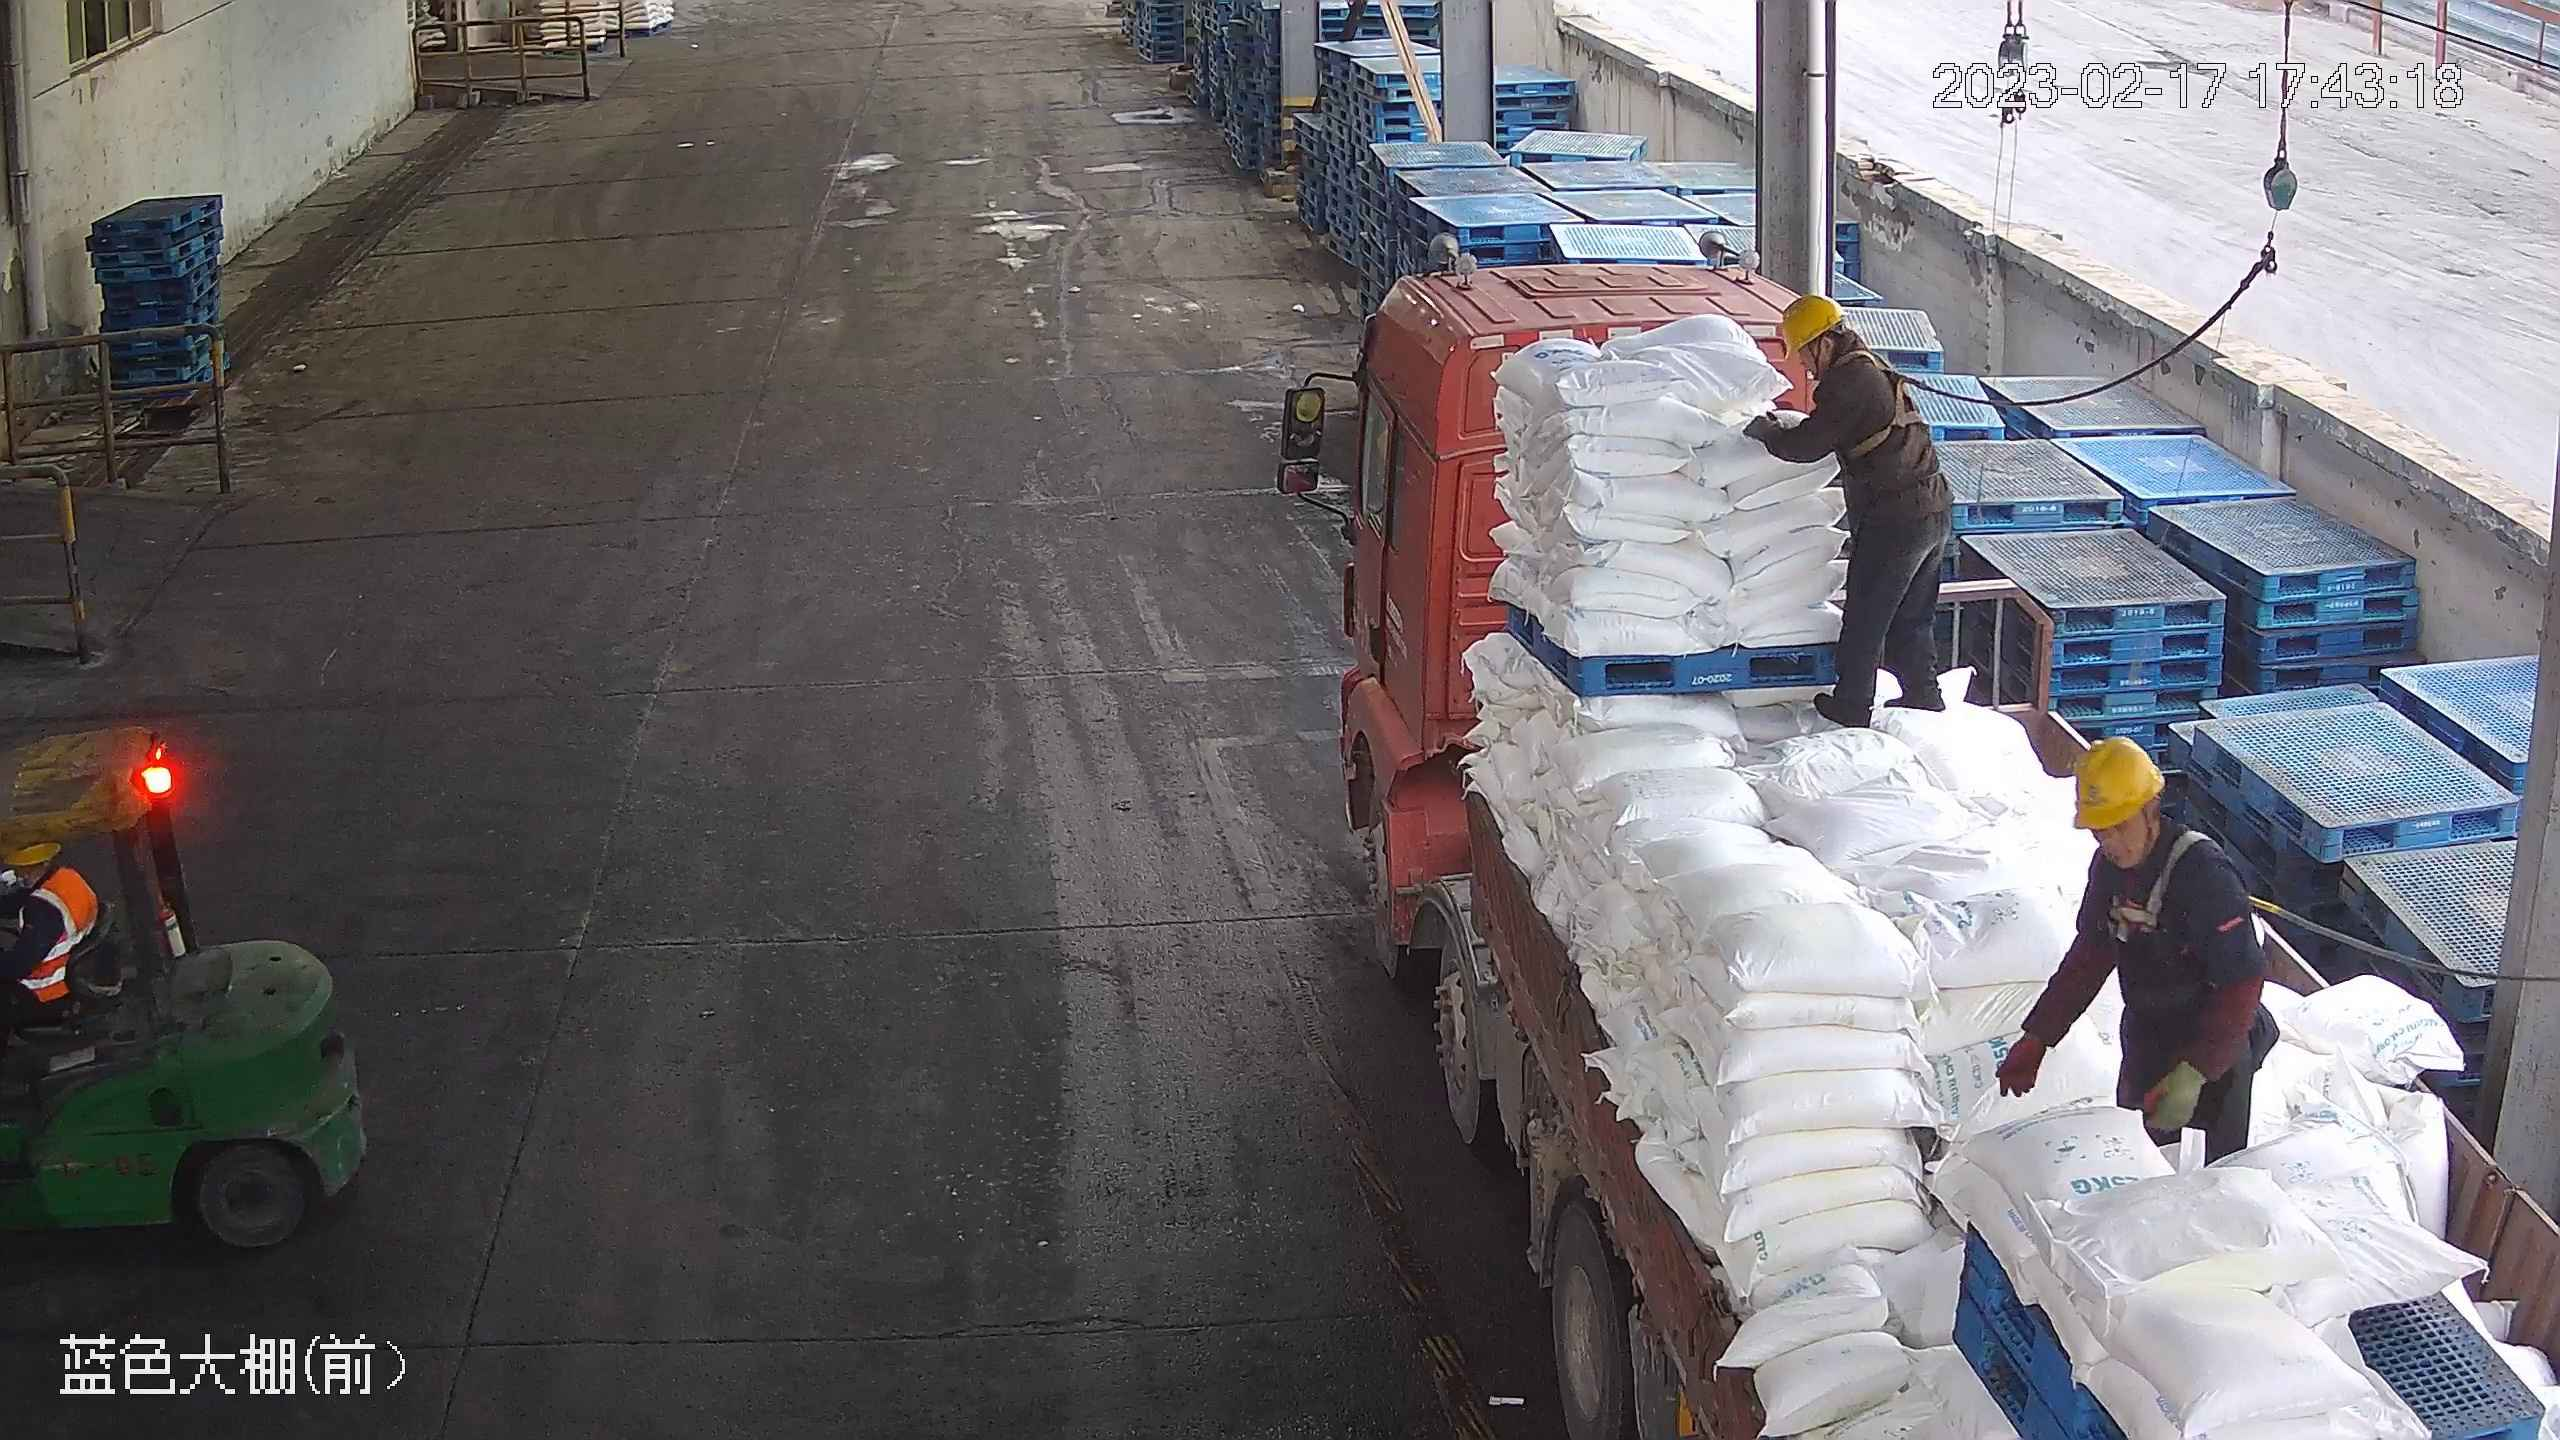belt: (2113, 822, 2298, 961), (1821, 342, 1933, 454)
head: (2040, 733, 2240, 935), (1769, 294, 1927, 449)
helmet: (2073, 739, 2169, 833), (1779, 293, 1852, 357)
people: (1993, 735, 2288, 1167), (1745, 296, 1955, 728)
truck: (1269, 259, 2560, 1440)
